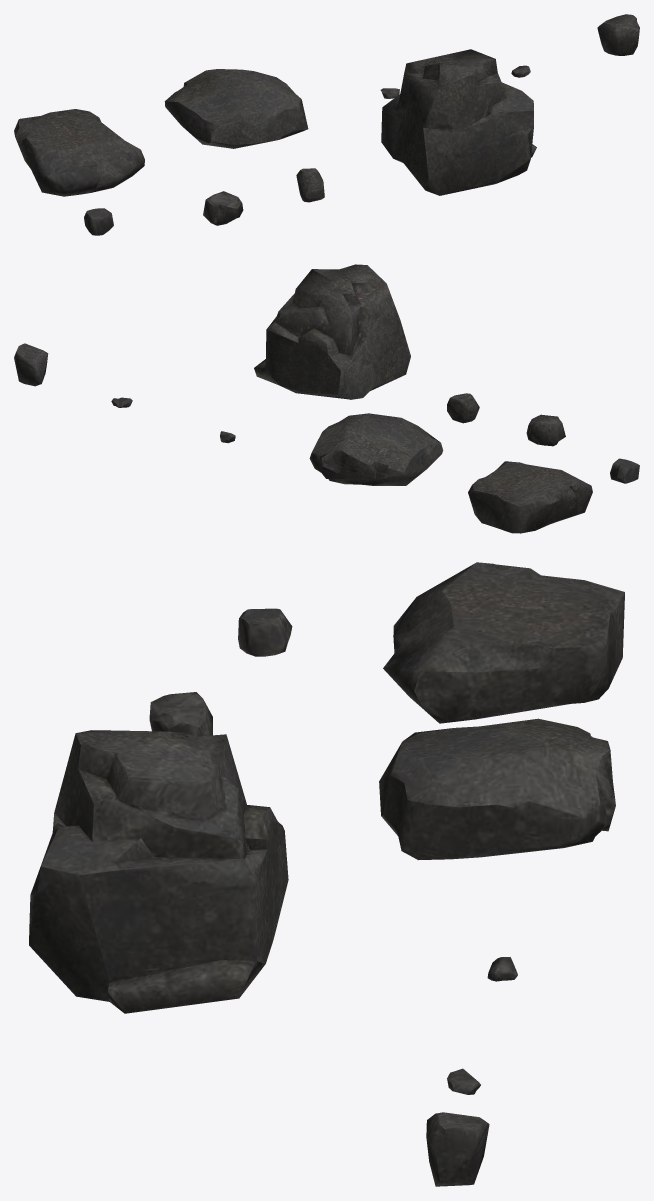
The model's file is scifi-overview-rocks.glb.
3 renders of one model, top to bottom at view 1: azimuth 30°, elevation 25°; view 2: azimuth 150°, elevation 25°; view 3: azimuth 270°, elevation 25°, orthographic. The views are drawn at different scales.
Parts seen in each view (by area): view 1: SM_Rock_9, SM_Rock_2, SM_Rock_1, SM_Rock_5, SM_Rock_7, SM_Rock_8, SM_Rock_6; view 2: SM_Rock_9, SM_Rock_2, SM_Rock_1, SM_Rock_5, SM_Rock_7, SM_Rock_8, SM_Rock_6; view 3: SM_Rock_9, SM_Rock_1, SM_Rock_2, SM_Rock_5, SM_Rock_7, SM_Rock_6.
Boxes of the visible parts, x1,y1,x2,y2 form: SM_Rock_9: (381, 49, 536, 195); SM_Rock_2: (164, 69, 308, 148); SM_Rock_1: (14, 109, 144, 196); SM_Rock_5: (597, 14, 639, 55); SM_Rock_7: (203, 191, 243, 225); SM_Rock_8: (296, 168, 324, 202); SM_Rock_6: (84, 208, 113, 235); SM_Rock_9: (254, 264, 410, 399); SM_Rock_2: (309, 413, 443, 485); SM_Rock_1: (468, 461, 592, 533); SM_Rock_5: (14, 343, 48, 386); SM_Rock_7: (526, 414, 565, 446); SM_Rock_8: (447, 393, 479, 423); SM_Rock_6: (610, 458, 639, 483); SM_Rock_9: (29, 730, 288, 1013); SM_Rock_1: (383, 562, 624, 723); SM_Rock_2: (379, 718, 615, 860); SM_Rock_5: (426, 1112, 489, 1186); SM_Rock_7: (149, 692, 212, 736); SM_Rock_6: (238, 608, 292, 656).
Bounding box in the file's own units: 14.17 × 2.61 × 6.41.
1 material, 1 textured.
